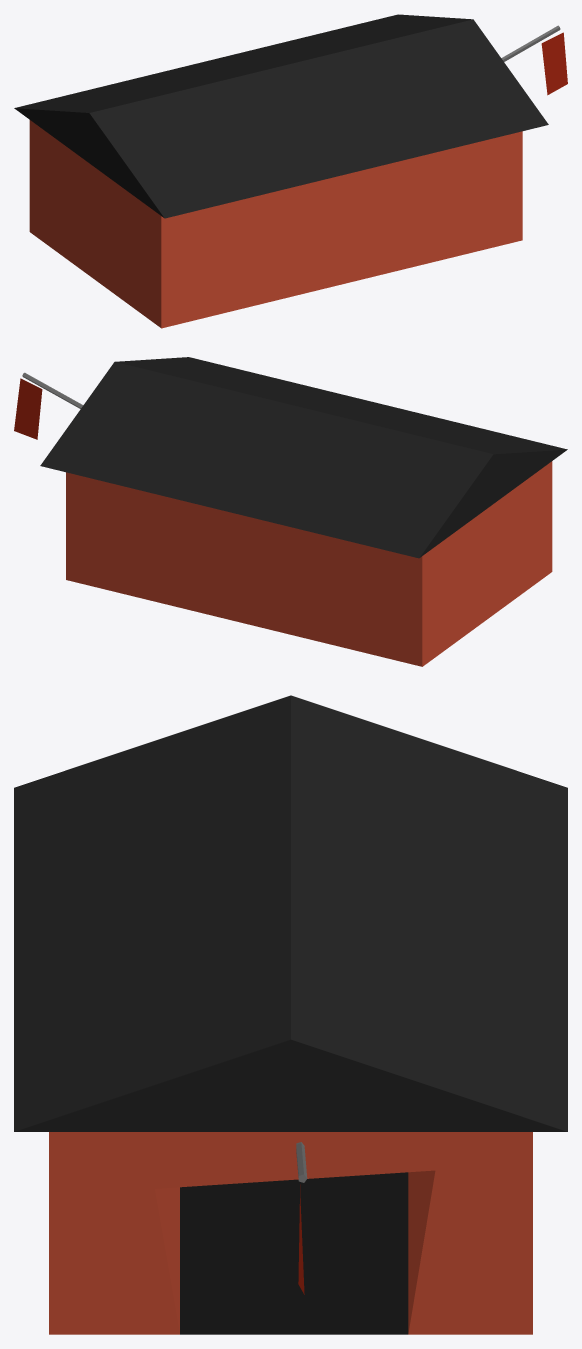
The model's file is HospitalGarage.fbx.
3 views of the same model, one above another, from view 1: azimuth 30°, elevation 25°; view 2: azimuth 150°, elevation 25°; view 3: azimuth 270°, elevation 25° (orthographic). The views are drawn at different scales.
Parts seen in each view (by area): view 1: Cube; view 2: Cube; view 3: Cube.
Part boxes in pixels (x1,y1,x2,y2): Cube: [14, 14, 567, 328]; Cube: [14, 357, 567, 666]; Cube: [14, 695, 567, 1334].
Bounding box in the file's own units: 4228 × 1414 × 2290.
Materials: 1 (1 with a texture image).
